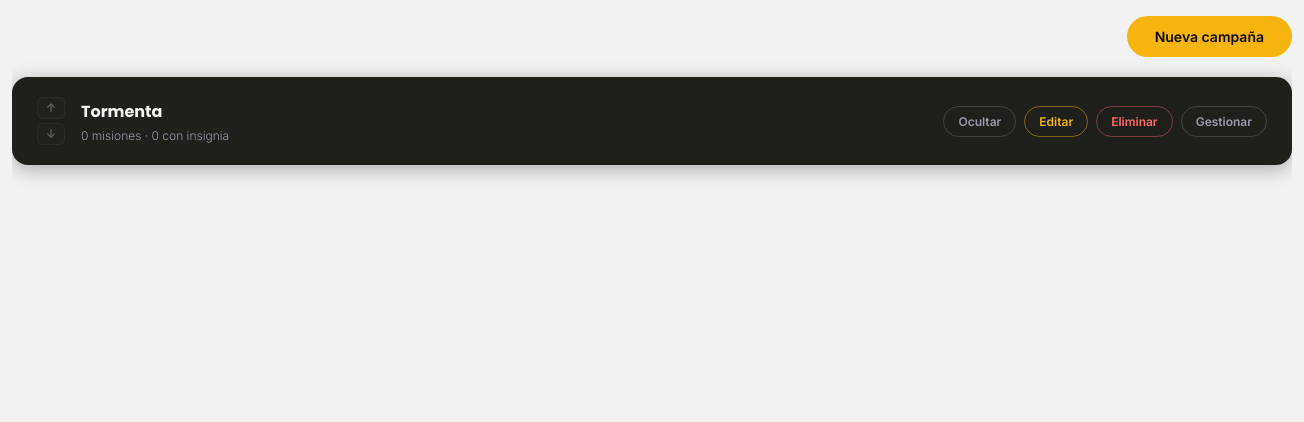
Test: missions › says so when a campaign has no missions
Expected: the heading "Tormenta" is shown, [81,100,162,123]
Click the button "Gestionar".
click(1224, 121)  # box [1181,106,1267,136]
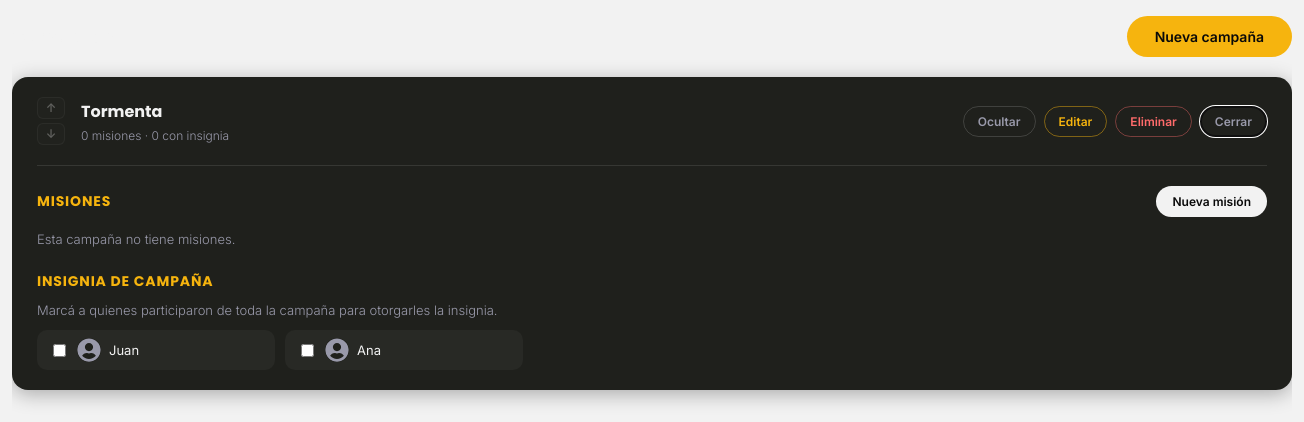
Now the text "Esta campaña no tiene misiones." is shown, box [37,231,235,247]
